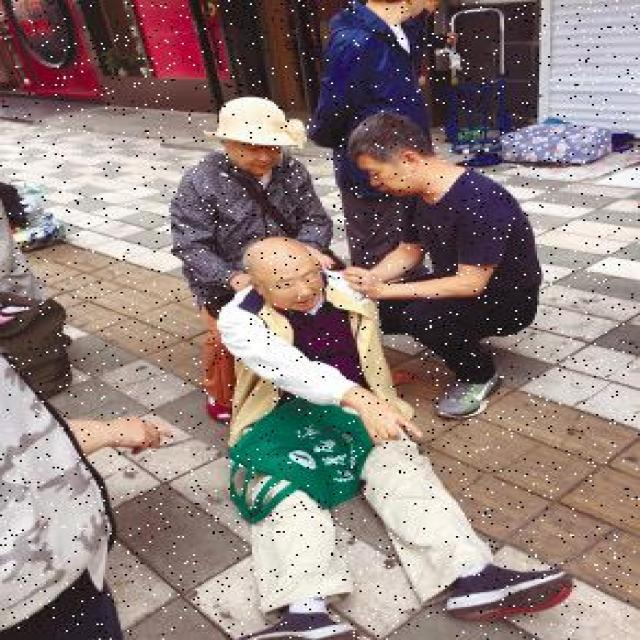fall: (228, 241, 440, 638)
